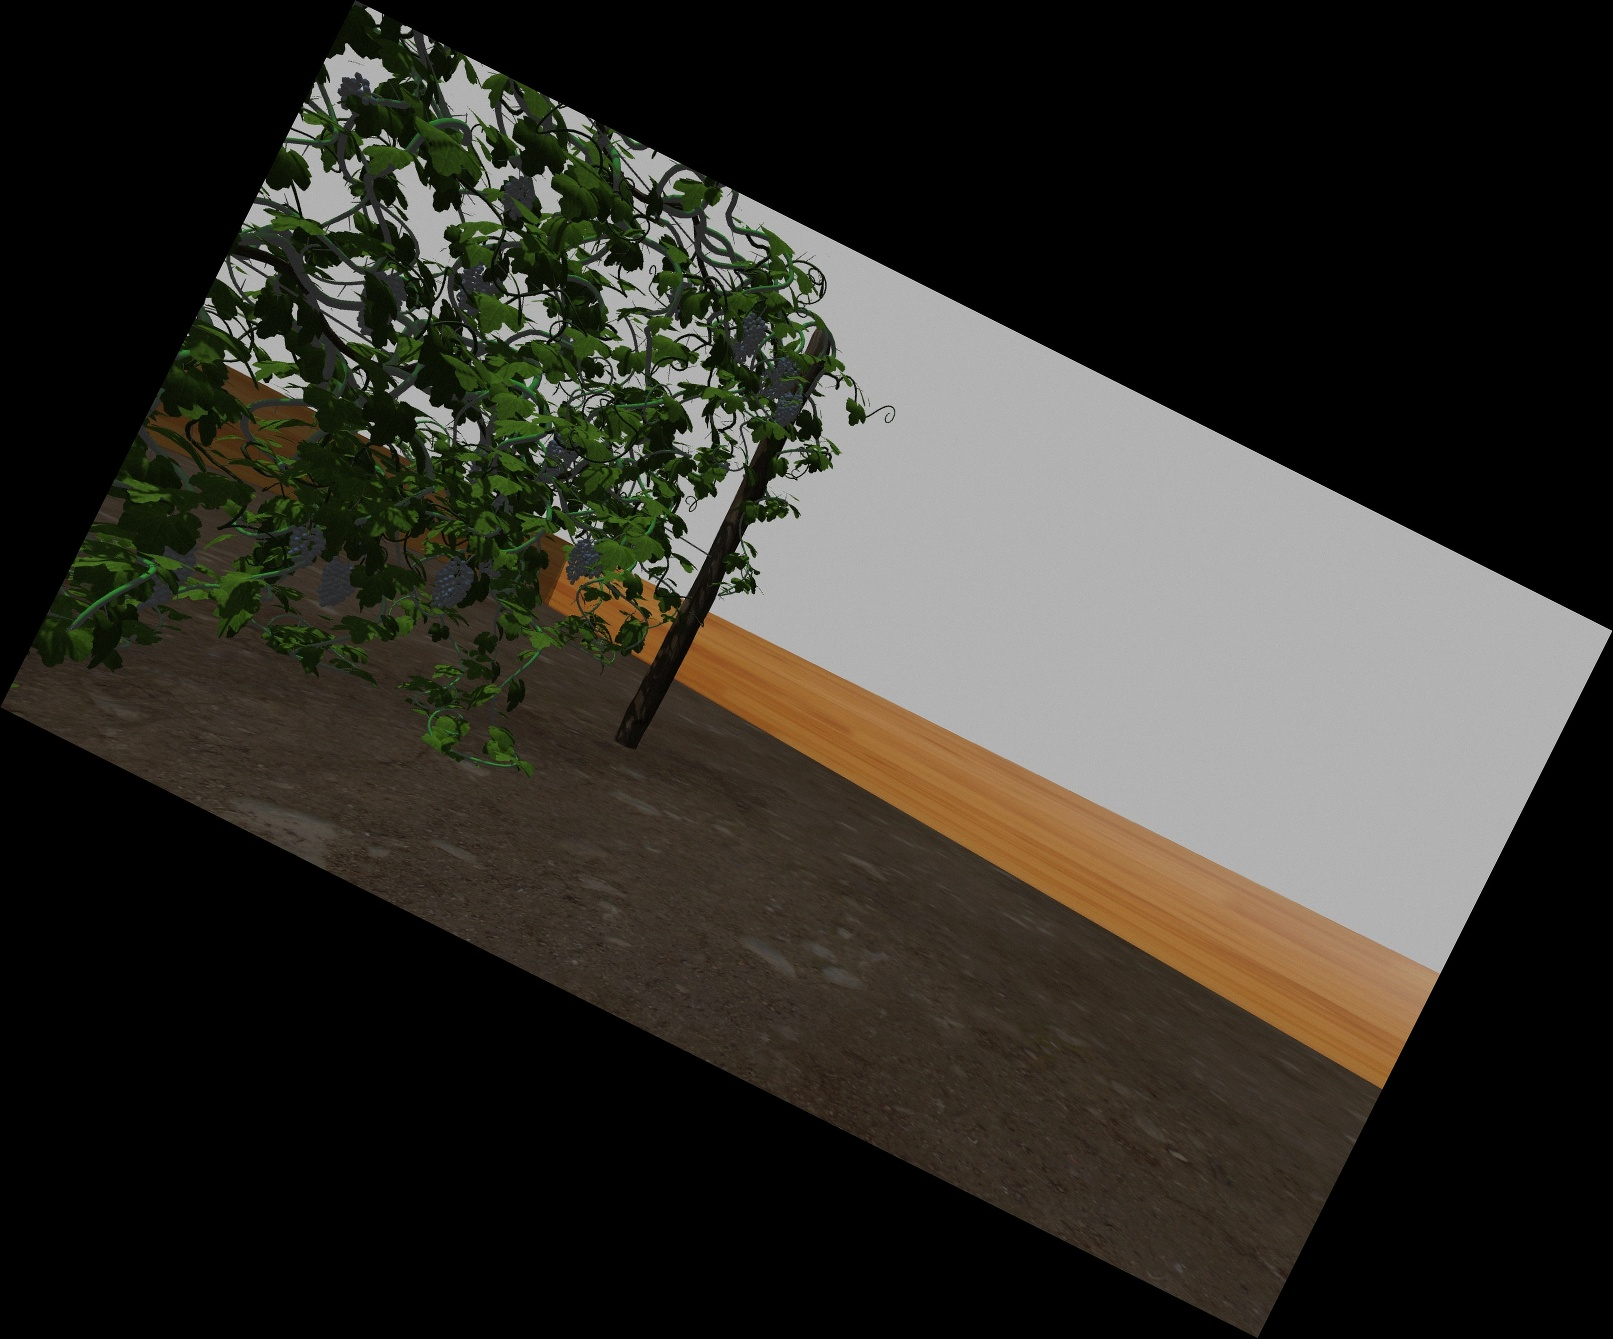grape: (146, 541, 188, 609), (359, 276, 401, 336), (455, 268, 500, 318), (318, 560, 356, 610), (435, 559, 469, 611), (501, 177, 535, 220), (336, 75, 374, 113), (288, 528, 322, 570), (544, 436, 576, 479), (735, 315, 761, 365), (768, 361, 794, 401), (565, 539, 589, 583), (776, 394, 798, 429), (589, 547, 610, 580)
